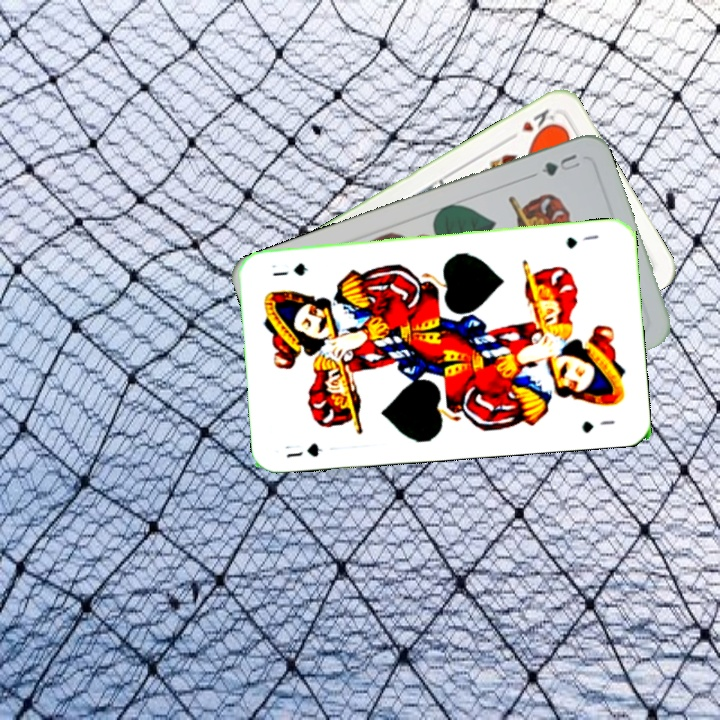GU: (537, 149, 583, 179), (281, 439, 325, 461), (562, 230, 601, 252)
HK: (503, 105, 562, 144)
